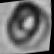correct: (0, 0, 54, 52)
